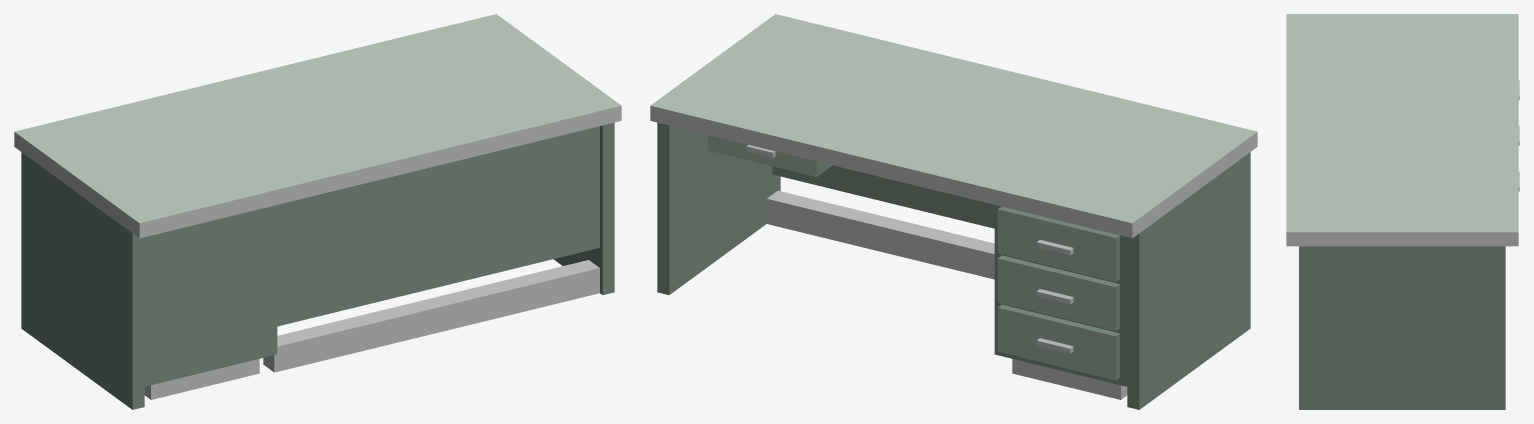
The model's file is supervisor_item.obj.
3 renders of one model, left to right at view 1: azimuth 30°, elevation 25°; view 2: azimuth 150°, elevation 25°; view 3: azimuth 270°, elevation 25°, orthographic. The views are drawn at different scales.
Visible parts, largest first — view 1: supervisor_item; view 2: supervisor_item; view 3: supervisor_item.
Boxes of the visible parts, x1,y1,x2,y2 form: supervisor_item: (14, 14, 621, 409); supervisor_item: (650, 14, 1257, 409); supervisor_item: (1286, 14, 1519, 409).
Size of the model in its own units: 2 by 0.76 by 0.905.
